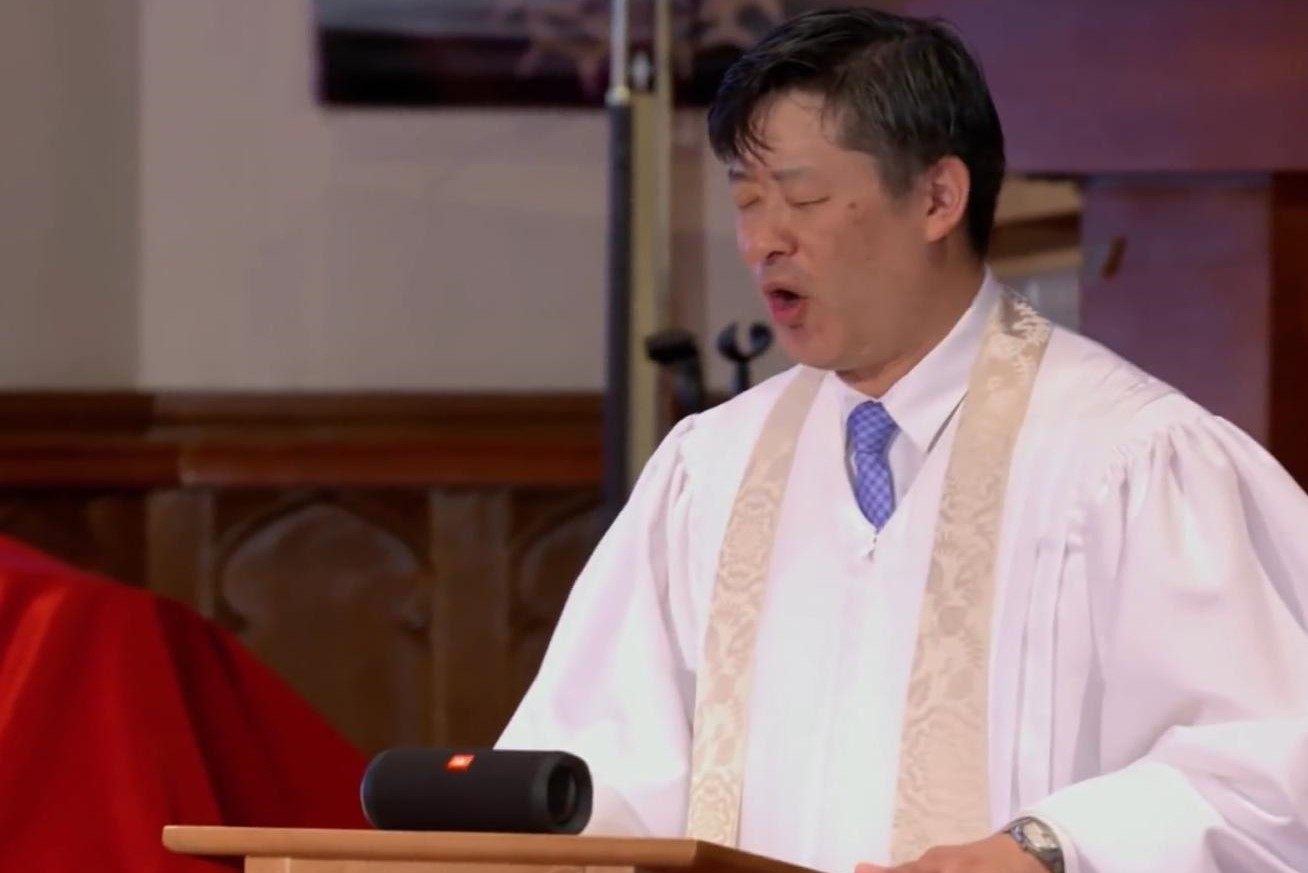without_mask: (750, 163, 853, 325)
